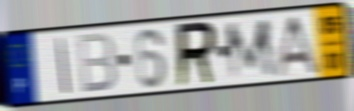6: (133, 26, 167, 92)
A: (272, 14, 322, 79)
B: (76, 30, 118, 96)
I: (56, 36, 72, 96)
M: (223, 16, 278, 83)
R: (175, 19, 219, 91)
